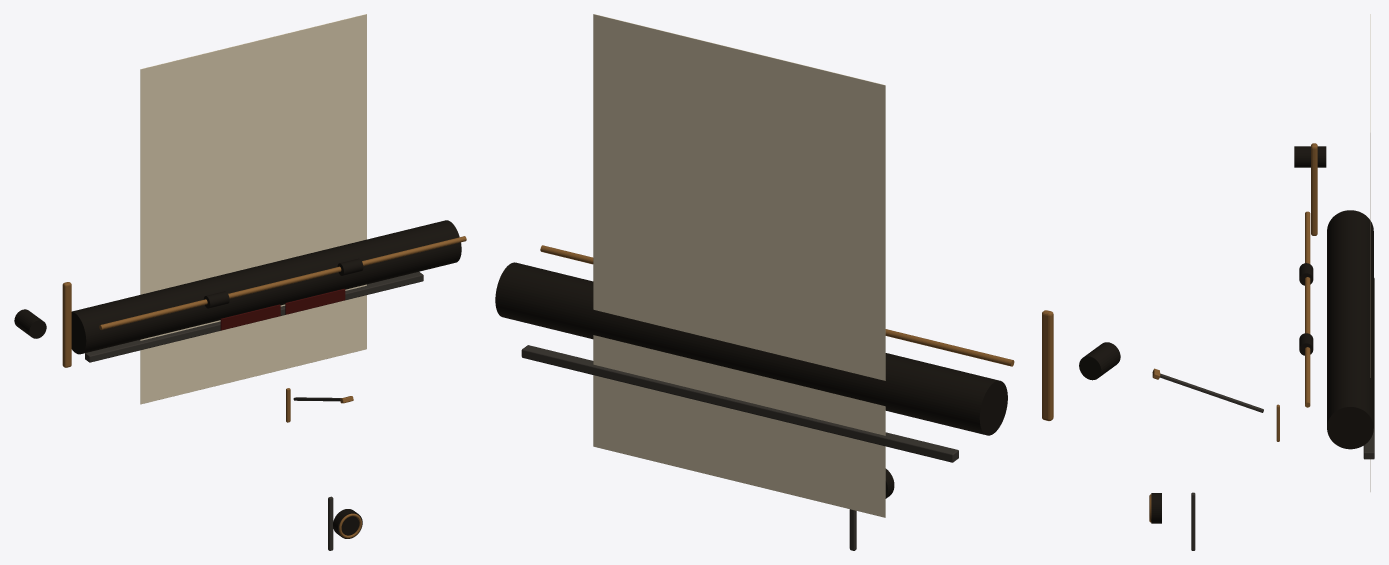
The model's file is typer-model-01-prototype-rig.glb.
The picture shows the model from 3 angles, left to right: view 1: azimuth 30°, elevation 25°; view 2: azimuth 150°, elevation 25°; view 3: azimuth 270°, elevation 25°; orthographic projection. The views are drawn at different scales.
Visible parts, largest first — view 1: Paper_A4, Platen_Roller, Escapement_Rack, Paper_Bail_Rod, Return_Lever_Arm, Ribbon_Right, Ribbon_Left, Return_Lever_Handle, Key_H; view 2: Paper_A4, Platen_Roller, Escapement_Rack, Paper_Bail_Rod, Return_Lever_Arm, Return_Lever_Handle; view 3: Platen_Roller, Paper_Bail_Rod, Return_Lever_Arm, Return_Lever_Handle, Typebar_H_Bar, Escapement_Rack, Paper_A4, Key_H, Key_Lever_H.
Boxes of the visible parts, x1,y1,x2,y2 form: Paper_A4: (140,14,366,404); Platen_Roller: (71,220,461,354); Escapement_Rack: (85,272,423,362); Paper_Bail_Rod: (99,236,466,329); Return_Lever_Arm: (62,282,71,367); Ribbon_Right: (285,288,345,314); Ribbon_Left: (220,304,280,330); Return_Lever_Handle: (14,309,46,338); Key_H: (333,509,362,538); Paper_A4: (593,14,885,517); Platen_Roller: (495,262,1007,435); Escapement_Rack: (521,345,958,462); Paper_Bail_Rod: (540,245,1014,366); Return_Lever_Arm: (1042,310,1053,420); Return_Lever_Handle: (1079,342,1120,380); Platen_Roller: (1327,210,1373,449); Paper_Bail_Rod: (1305,211,1310,407); Return_Lever_Arm: (1311,143,1317,235); Return_Lever_Handle: (1294,146,1326,167); Typebar_H_Bar: (1160,373,1263,412); Escapement_Rack: (1363,278,1374,459); Paper_A4: (1370,14,1370,491); Key_H: (1151,493,1161,523); Key_Lever_H: (1191,492,1195,550).
Bounding box in the file's own units: 0.4148 × 0.396 × 0.1683.
